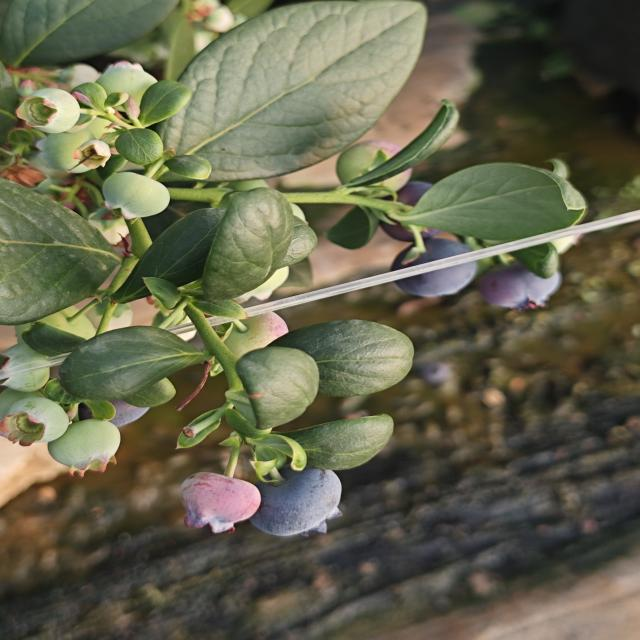ripe: (245, 460, 368, 541), (371, 180, 463, 238), (394, 231, 474, 294), (473, 259, 556, 305)
